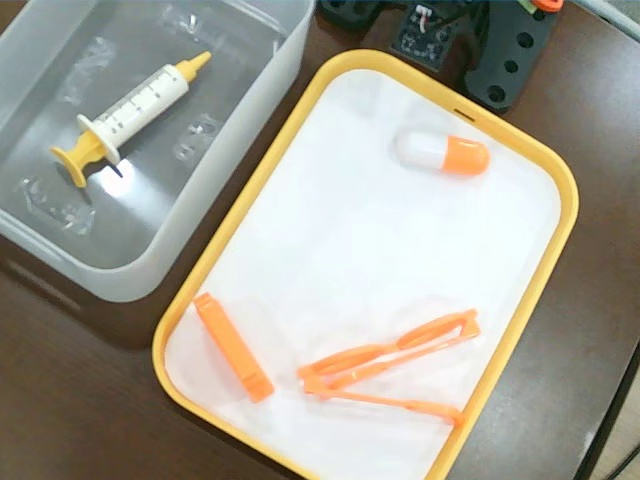pill: (391, 125, 491, 181)
syringe: (53, 48, 212, 190)
